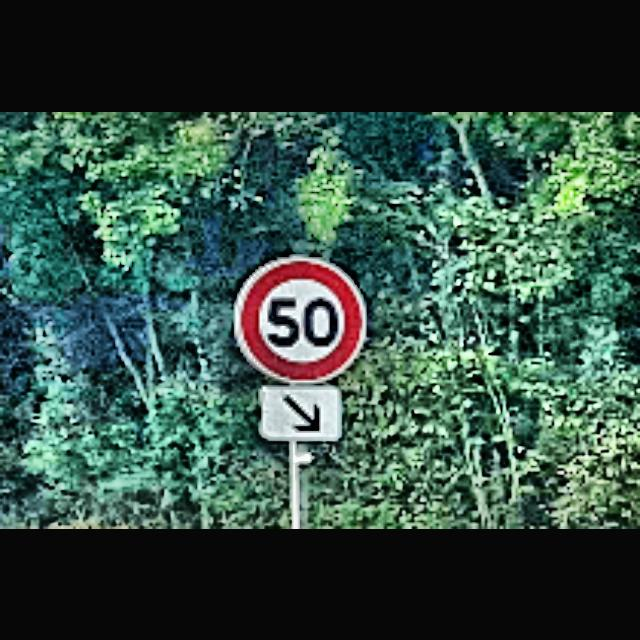speed_50: (230, 252, 368, 384)
